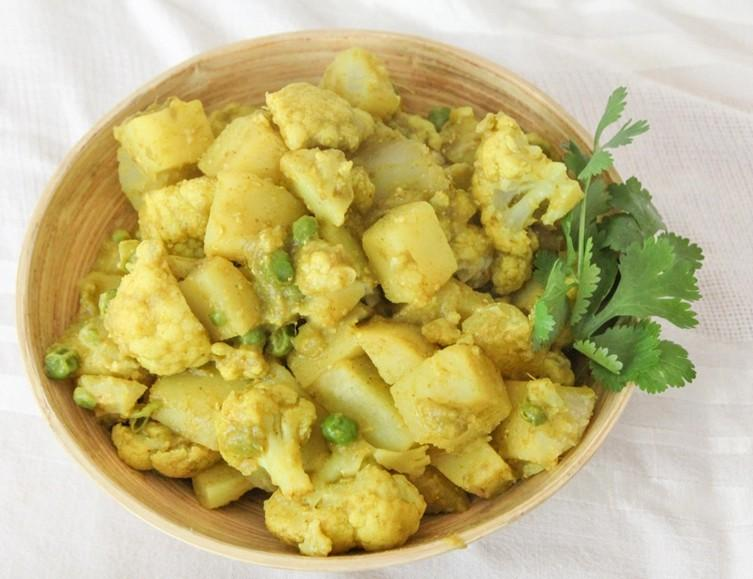AlooGobi: (44, 52, 703, 555)
